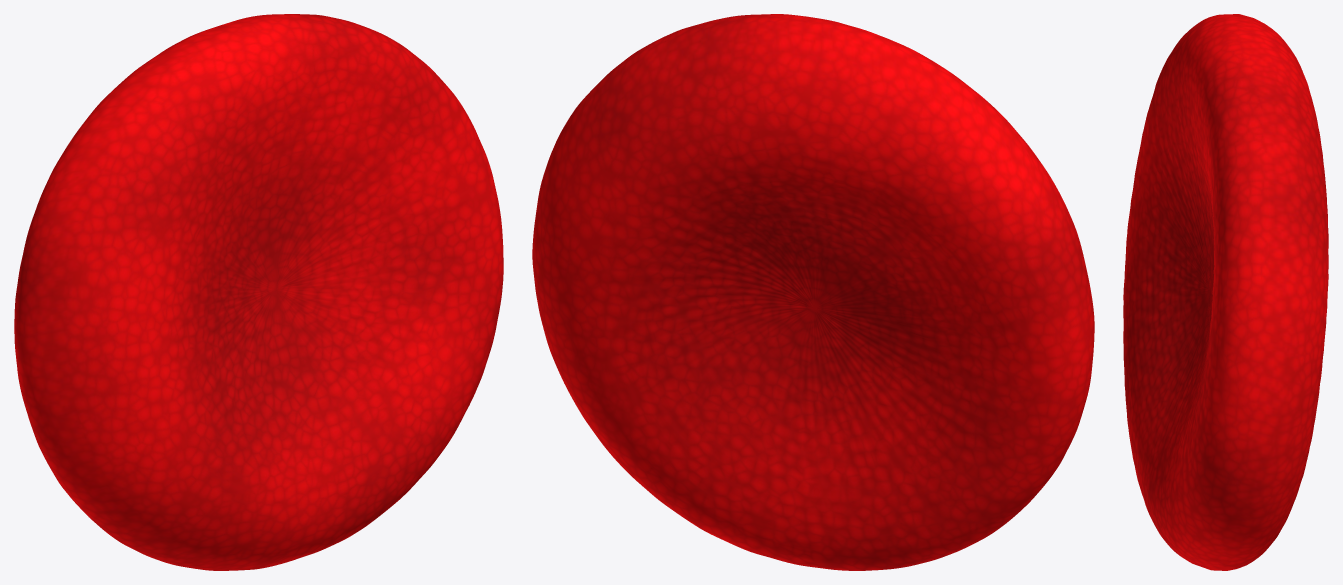
File: red-blood-cell.glb
3 views of the same model, side by side, from view 1: azimuth 30°, elevation 25°; view 2: azimuth 150°, elevation 25°; view 3: azimuth 270°, elevation 25° (orthographic). The views are drawn at different scales.
Parts seen in each view (by area): view 1: red_blood_cell; view 2: red_blood_cell; view 3: red_blood_cell.
Part boxes in pixels (<box>): red_blood_cell: <box>14,14,503,570</box>; red_blood_cell: <box>532,14,1094,570</box>; red_blood_cell: <box>1123,14,1328,570</box>.
Bounding box in the file's own units: 2.2 × 2.22 × 0.8242.
Materials: 1 (1 with a texture image).
